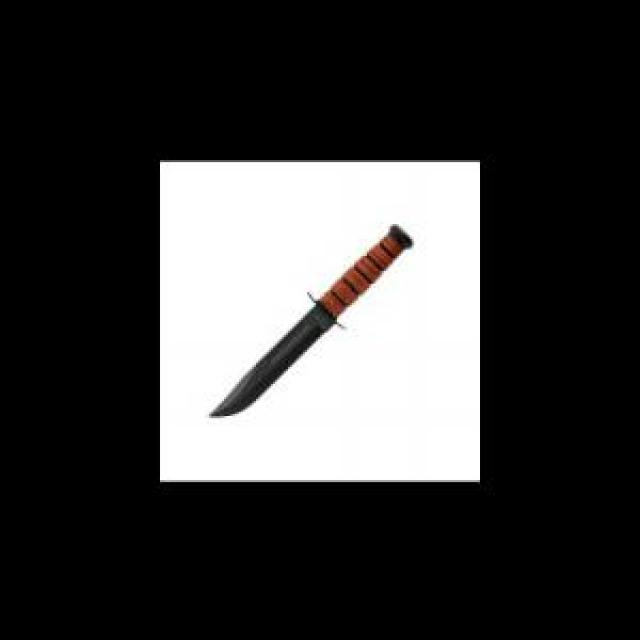knife: (209, 222, 415, 422)
